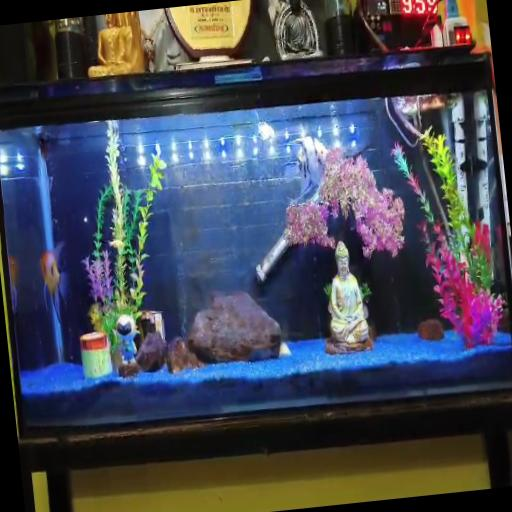Fish: (283, 137, 328, 198), (40, 242, 67, 325), (9, 257, 19, 314), (258, 122, 275, 141)
